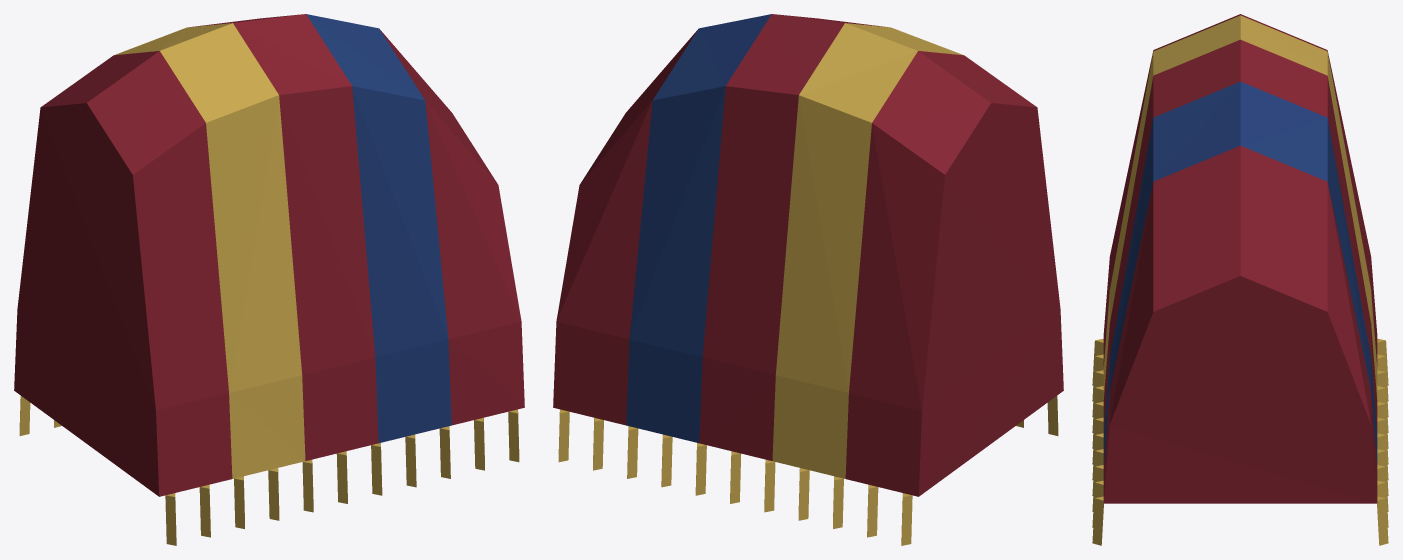
Rendered from gd_camel_cloth.glb.
3 renders of one model, left to right at view 1: azimuth 30°, elevation 25°; view 2: azimuth 150°, elevation 25°; view 3: azimuth 270°, elevation 25°, orthographic. The views are drawn at different scales.
Parts seen in each view (by area): view 1: base; view 2: base; view 3: base.
Part boxes in pixels (bbox=[...]): base: bbox=[14, 14, 524, 545]; base: bbox=[553, 14, 1063, 545]; base: bbox=[1092, 14, 1388, 545].
Bounding box in the file's own units: 0.32 × 0.3621 × 0.238.
